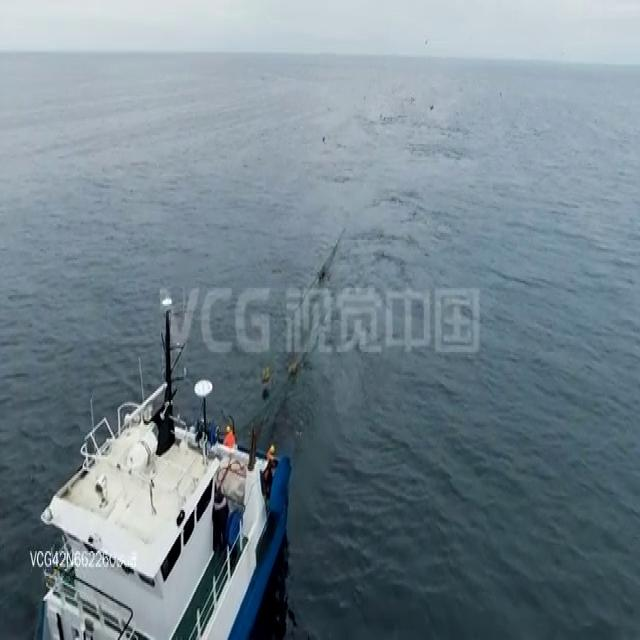fishing boat: (27, 306, 294, 640)
